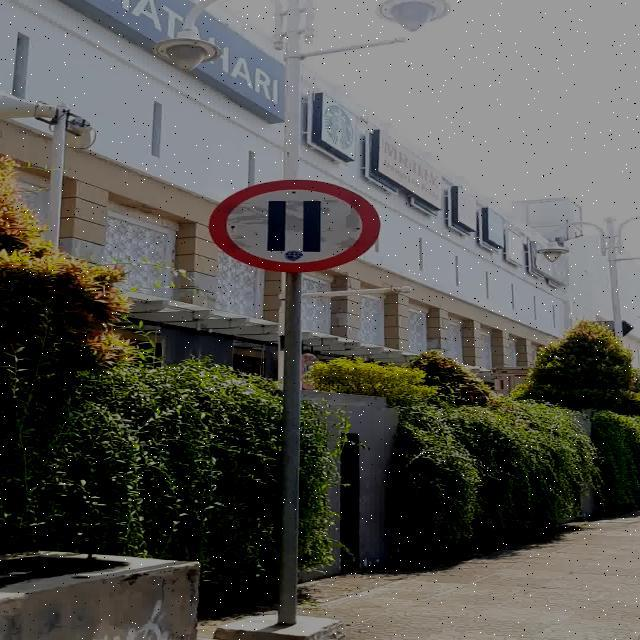Larangan Muatan - 10 ton: (209, 178, 381, 272)
